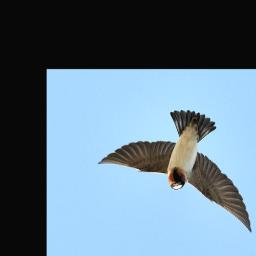Swallow: (98, 109, 254, 235)
